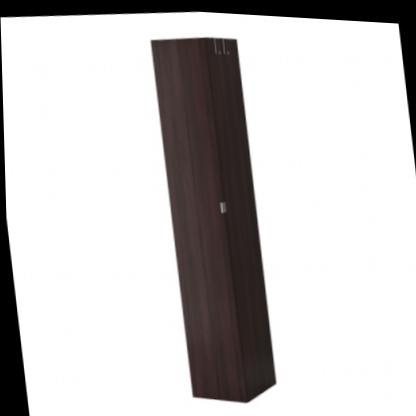Cabinet: (146, 25, 279, 410)
